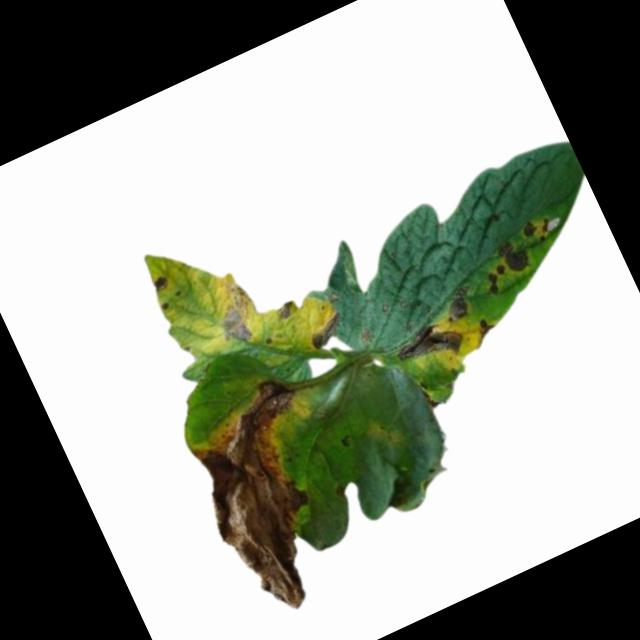Early_blight: (170, 375, 376, 626), (391, 313, 469, 376), (206, 281, 264, 350), (302, 310, 350, 354), (438, 285, 480, 326), (496, 237, 533, 277), (467, 313, 501, 350), (519, 212, 556, 245), (270, 298, 303, 328), (483, 263, 512, 296), (151, 275, 172, 297)
